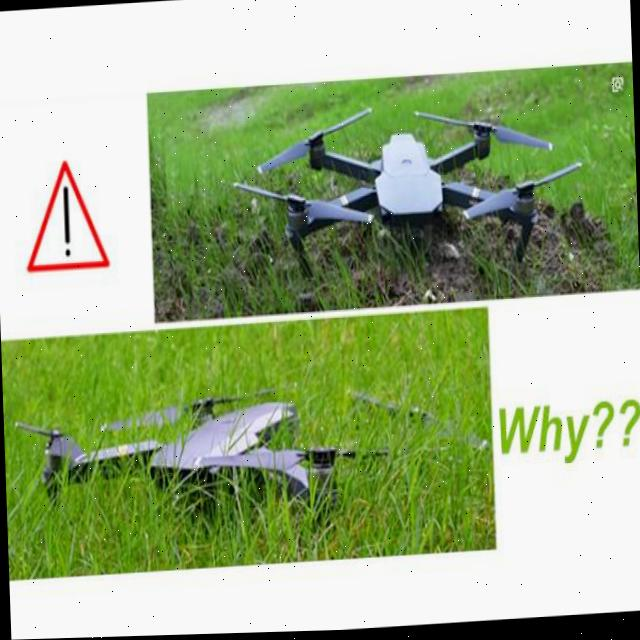drone: (213, 68, 588, 318), (9, 359, 428, 549)
